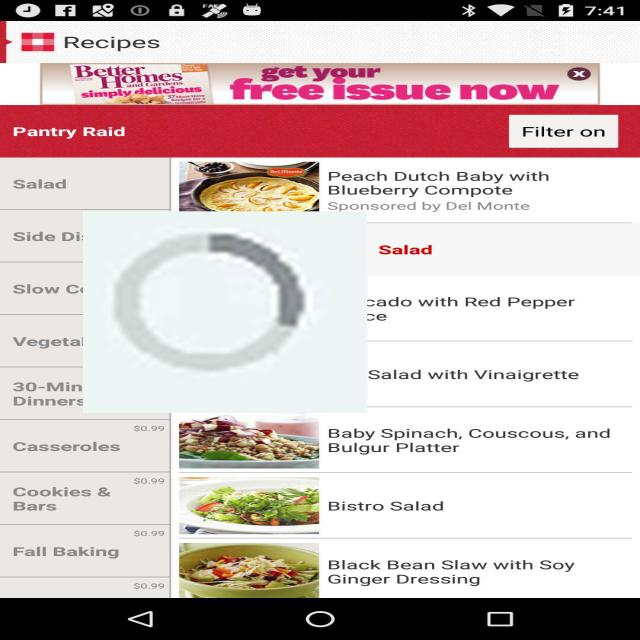misdirection: (83, 211, 367, 413)
